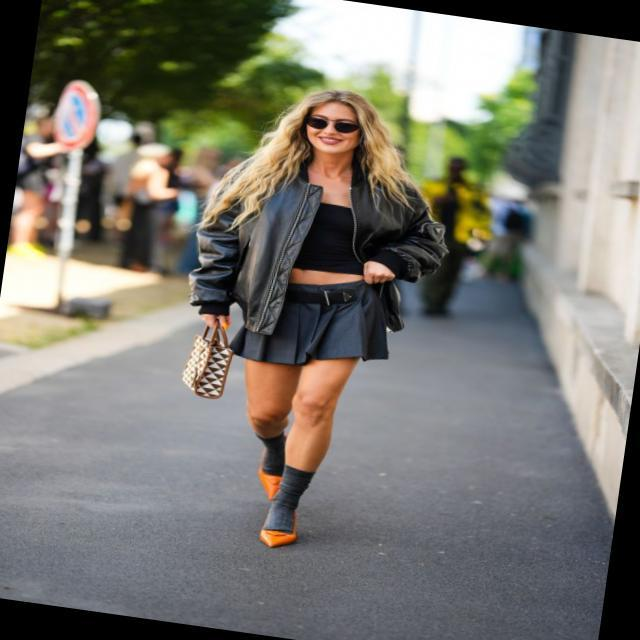jacket: (186, 145, 451, 325)
skirt: (228, 276, 398, 368)
vest: (288, 203, 362, 280)
